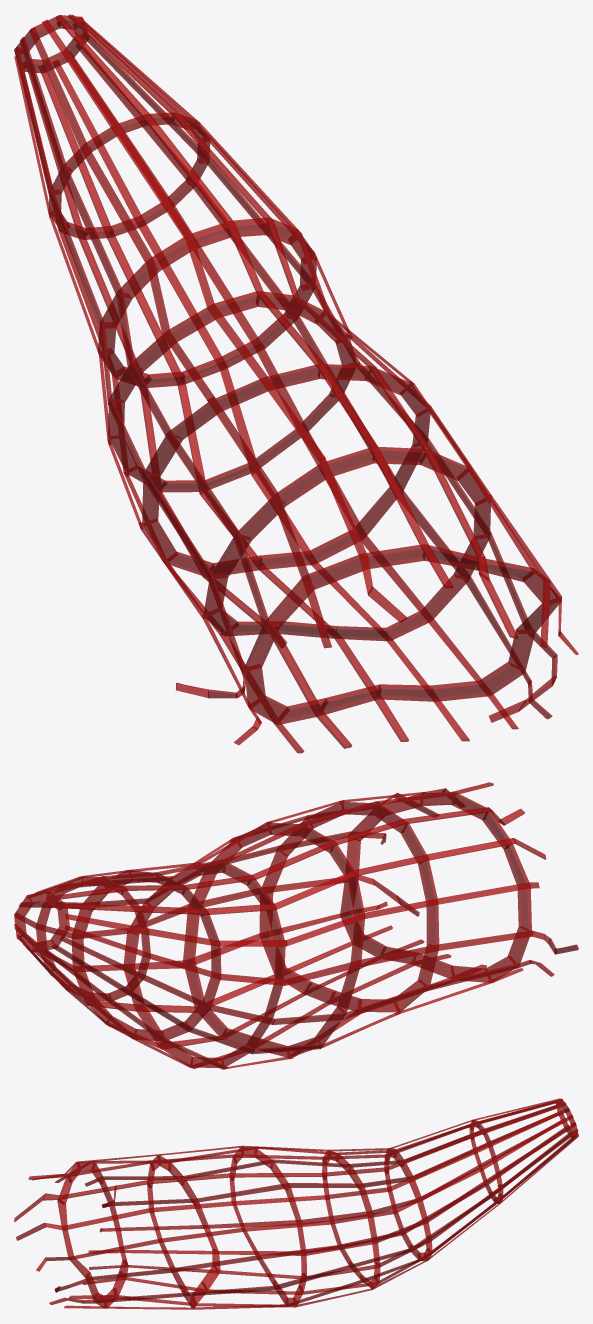
Rendered from SM_Veh_Blimp_Destroyed_02_Collision.fbx.
3 renders of one model, top to bottom at view 1: azimuth 30°, elevation 25°; view 2: azimuth 150°, elevation 25°; view 3: azimuth 270°, elevation 25°, orthographic. The views are drawn at different scales.
Visible parts, largest first — view 1: SM_Veh_Blimp_Destroyed_02_Collision; view 2: SM_Veh_Blimp_Destroyed_02_Collision; view 3: SM_Veh_Blimp_Destroyed_02_Collision.
Part boxes in pixels (x1,y1,x2,y2): SM_Veh_Blimp_Destroyed_02_Collision: (14, 14, 578, 753); SM_Veh_Blimp_Destroyed_02_Collision: (14, 782, 578, 1069); SM_Veh_Blimp_Destroyed_02_Collision: (14, 1098, 578, 1309).
Size of the model in its own units: 2423 by 2222 by 5423.
